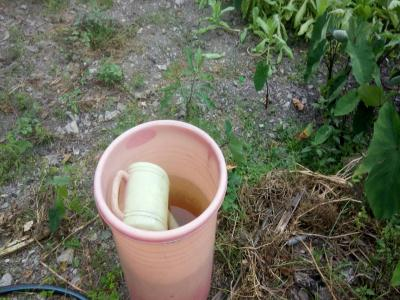bowl: (110, 159, 176, 232)
bucket: (91, 117, 230, 300)
